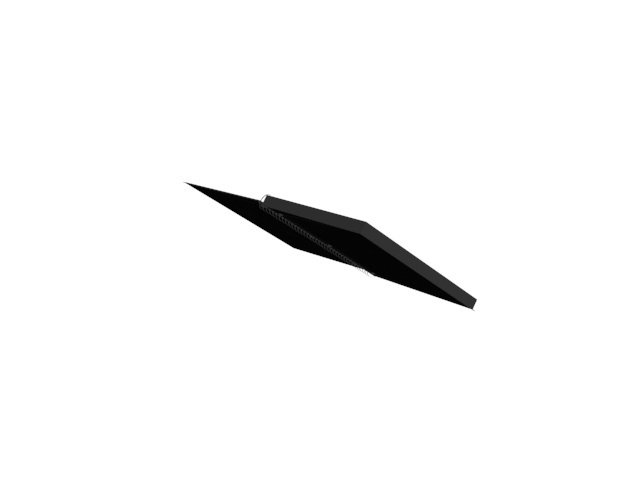paper_notebook: (177, 177, 480, 312)
